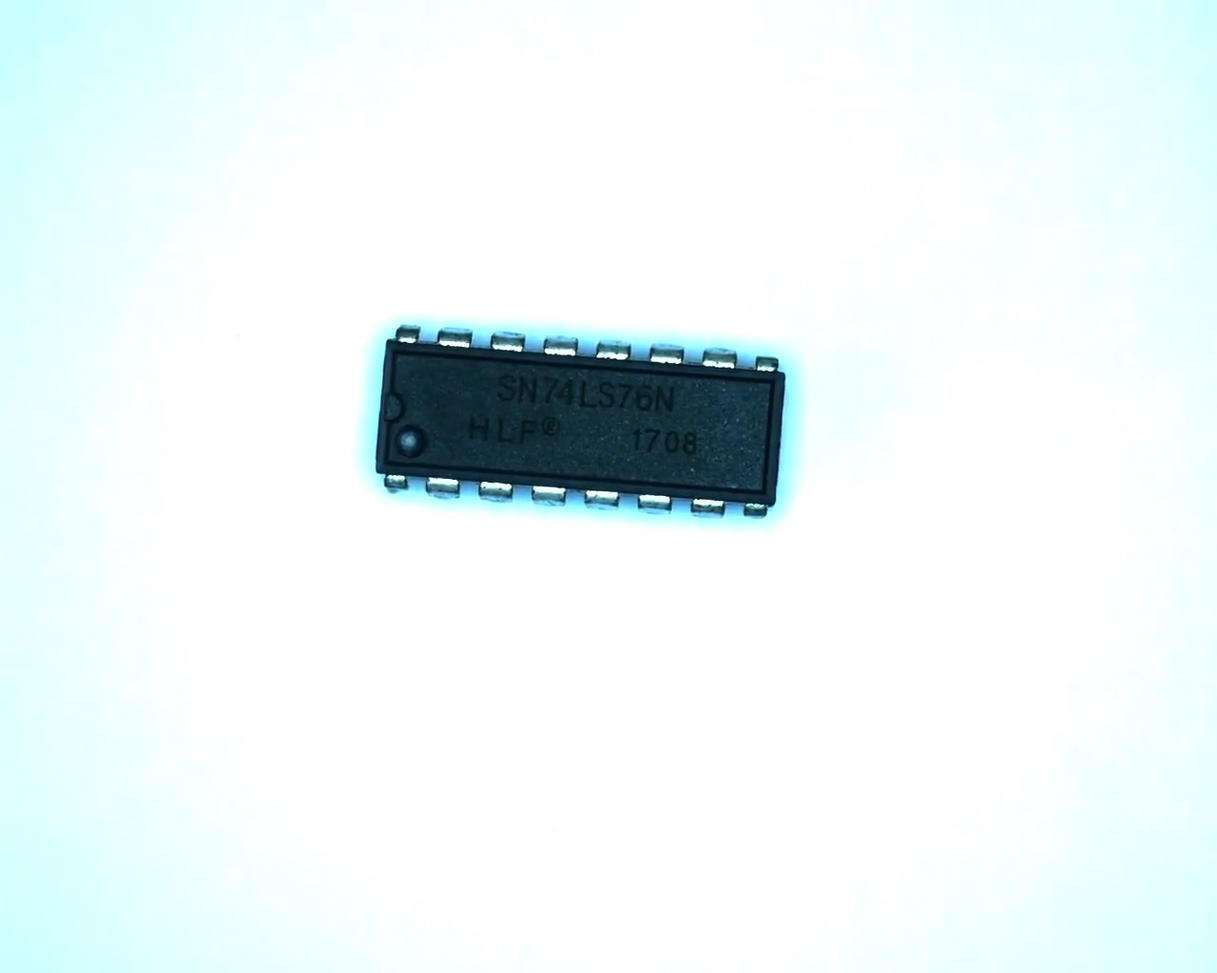IC: (376, 324, 786, 524)
notch: (380, 389, 409, 426)
